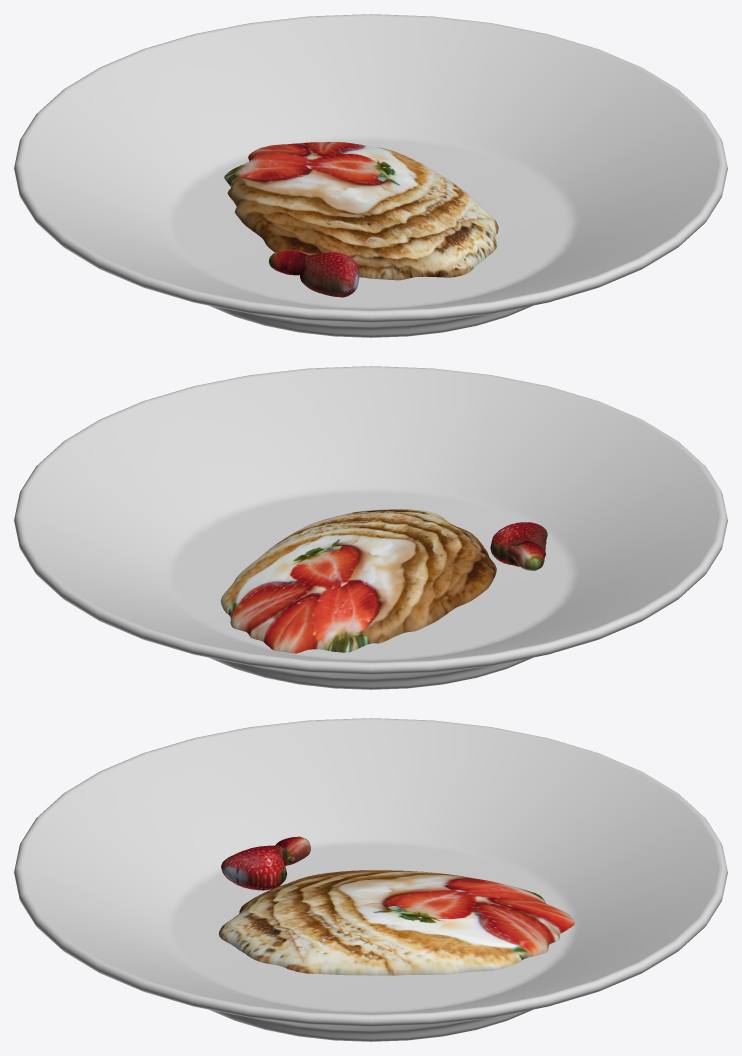
The model's file is pancake.glb.
The picture shows the model from 3 angles, top to bottom: view 1: azimuth 30°, elevation 25°; view 2: azimuth 150°, elevation 25°; view 3: azimuth 270°, elevation 25°; orthographic projection.
Parts seen in each view (by area): view 1: root, mm_frame.obj (×2); view 2: root, mm_frame.obj (×2); view 3: root, mm_frame.obj (×2).
Boxes of the visible parts, <box> form: root: <box>14,14,727,337</box>; mm_frame.obj (×2): <box>224,142,498,297</box>; root: <box>14,366,727,689</box>; mm_frame.obj (×2): <box>221,509,547,653</box>; root: <box>14,718,727,1041</box>; mm_frame.obj (×2): <box>219,836,574,975</box>.
Bounding box in the file's own units: 0.15 × 0.022 × 0.15.
3 materials, 2 textured.
